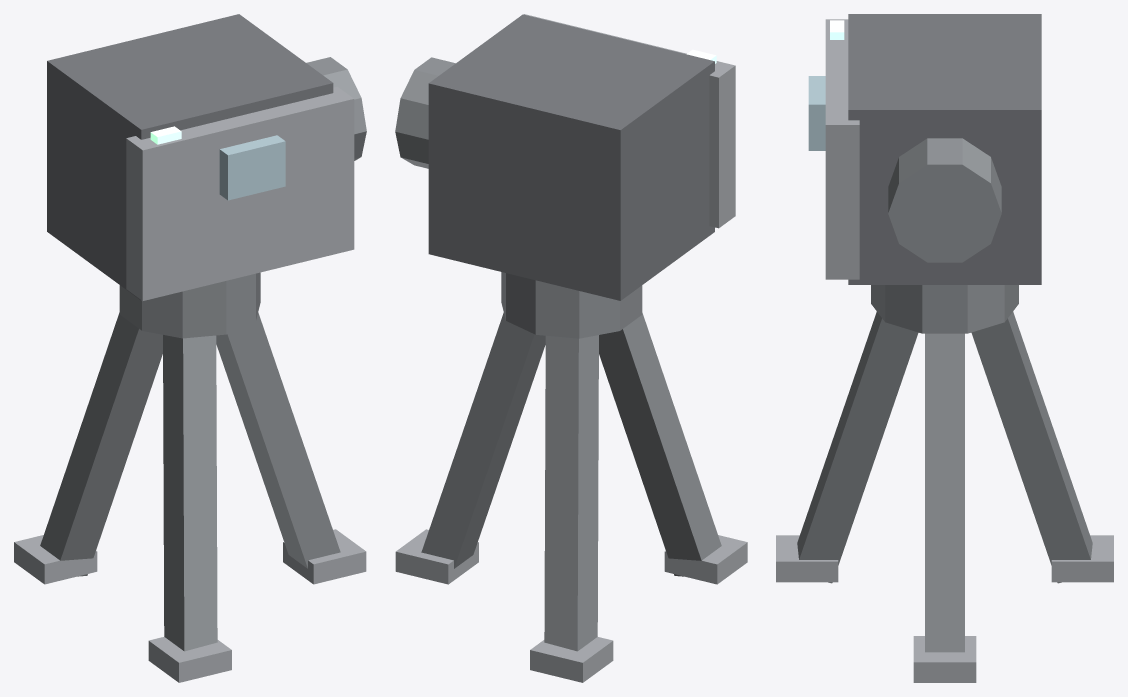
File: auto_turret.glb
3 views of the same model, side by side, from view 1: azimuth 30°, elevation 25°; view 2: azimuth 150°, elevation 25°; view 3: azimuth 270°, elevation 25° (orthographic). The views are drawn at different scales.
Visible parts, largest first — view 1: auto_turret; view 2: auto_turret; view 3: auto_turret.
Part boxes in pixels (x1,y1,x2,y2): auto_turret: (14,14,366,682); auto_turret: (395,14,747,682); auto_turret: (776,14,1113,682).
Bounding box in the file's own units: 0.555 × 1.06 × 0.595.
